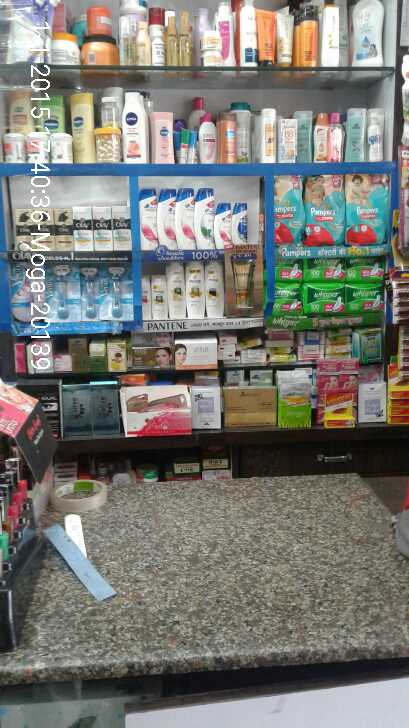venus: (12, 263, 48, 322), (48, 264, 80, 322), (104, 262, 131, 320), (80, 264, 101, 322)
